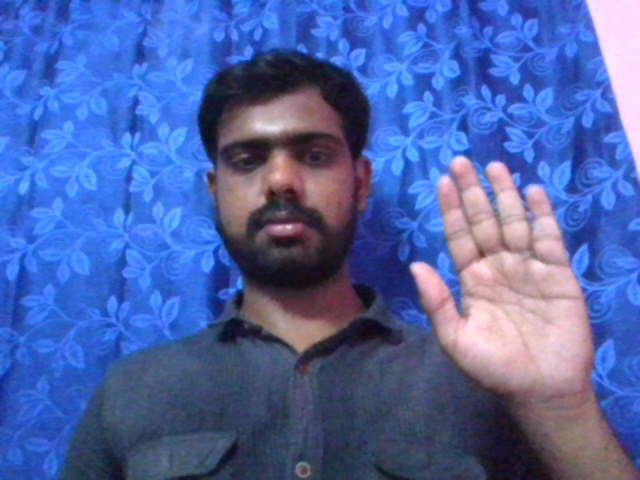Hello: (410, 156, 593, 393)
